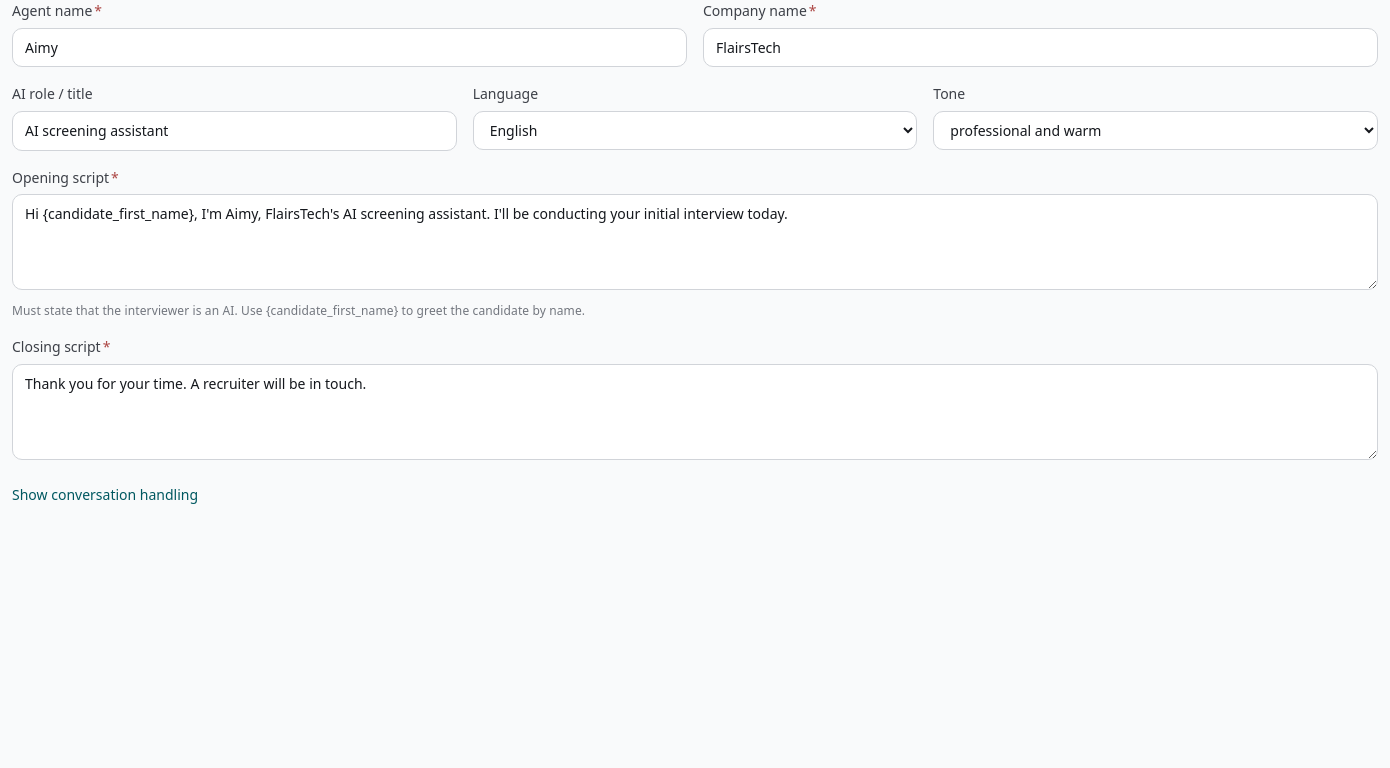
Test: PersonaForm › hides conversation handling until asked for
expect the field labelled "off-topic redirection" is not shown: met
Click the button "Show conversation handling" at (105, 495), box [12,484,198,506]
(page scrolled)
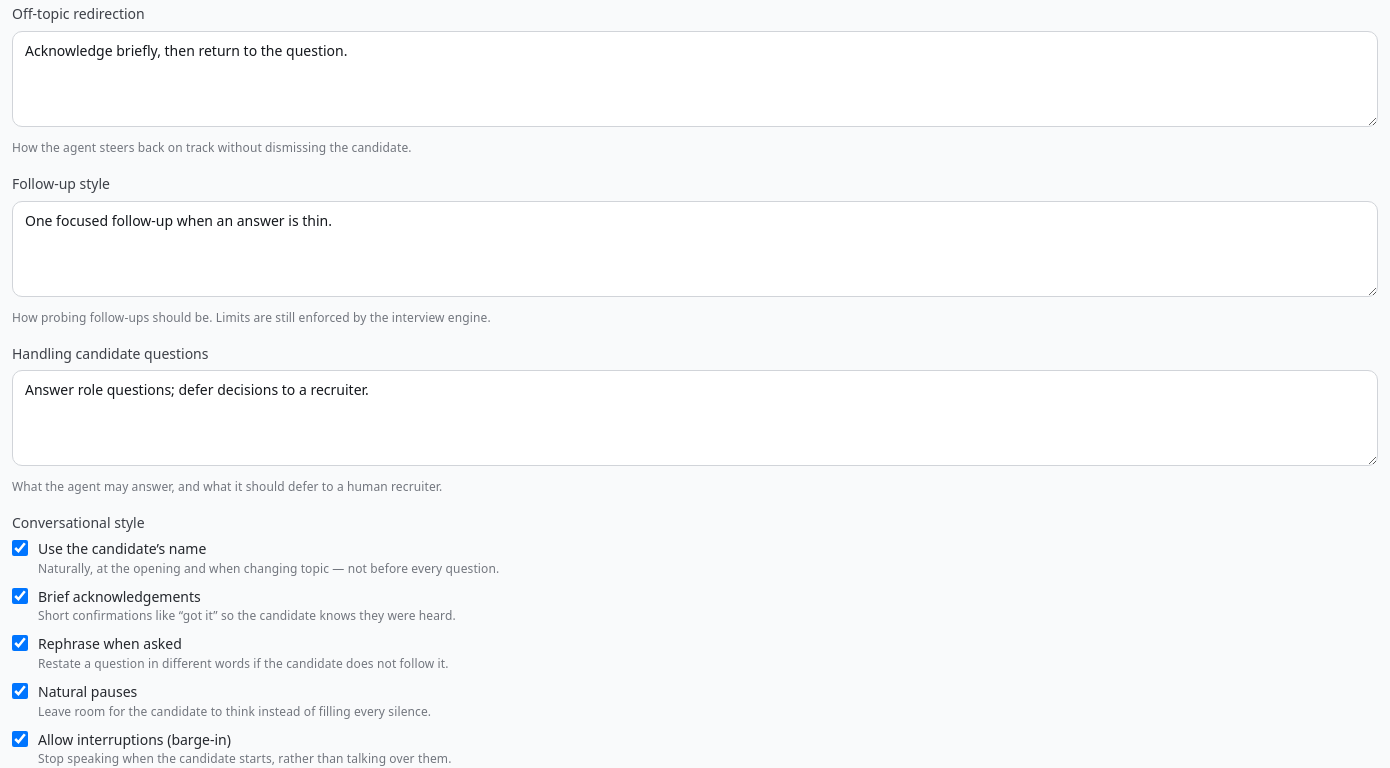
expect the text box labelled "Off-topic redirection" is shown: met, box [12,31,1378,127]
expect the text box labelled "Follow-up style" is shown: met, box [12,200,1378,296]
expect the text box labelled "Handling candidate questions" is shown: met, box [12,370,1378,466]
